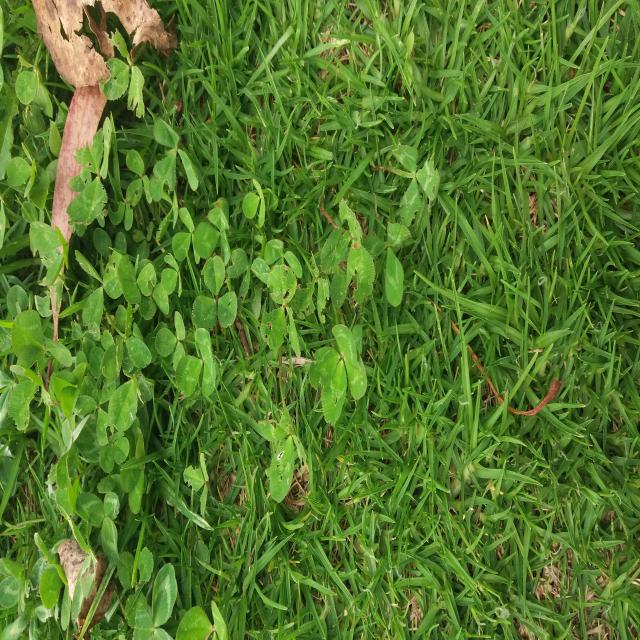Four Leaf Clover: (308, 324, 367, 426), (353, 187, 381, 226)
